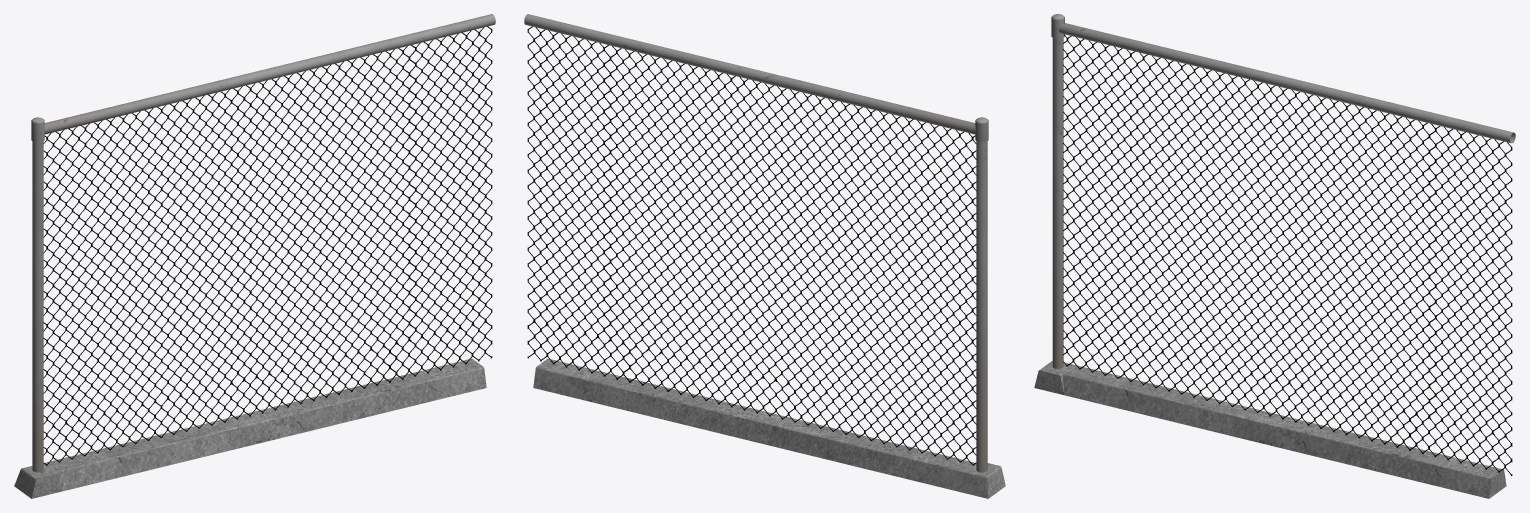
Rendered from chain_curb_corner_cw.fbx.
3 views of the same model, side by side, from view 1: azimuth 30°, elevation 25°; view 2: azimuth 150°, elevation 25°; view 3: azimuth 330°, elevation 25° (orthographic).
Visible parts, largest first — view 1: chain_curb_corner_cw; view 2: chain_curb_corner_cw; view 3: chain_curb_corner_cw.
Part boxes in pixels (x1,y1,x2,y2): chain_curb_corner_cw: (14,14,495,498); chain_curb_corner_cw: (524,14,1005,498); chain_curb_corner_cw: (1034,14,1515,498).
Bounding box in the file's own units: 3.1 × 2.33 × 0.2.
2 materials, 2 textured.
